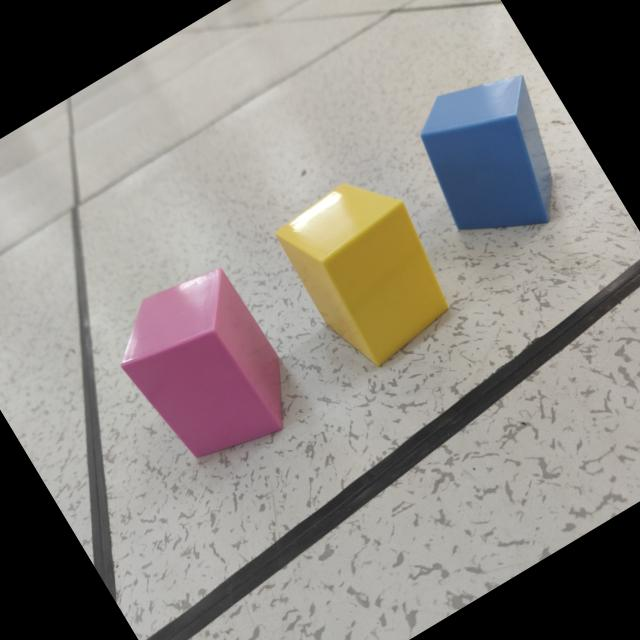blue: (421, 77, 554, 234)
pink: (121, 269, 285, 461)
yellow: (276, 184, 450, 368)
